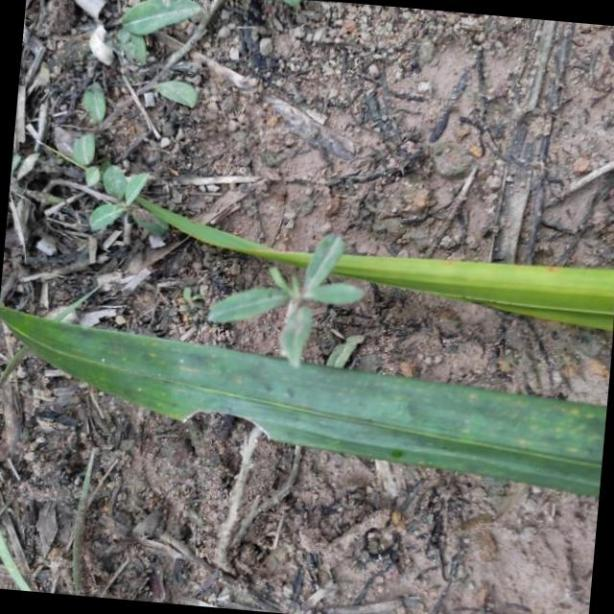nitrogen: (145, 187, 614, 323)
